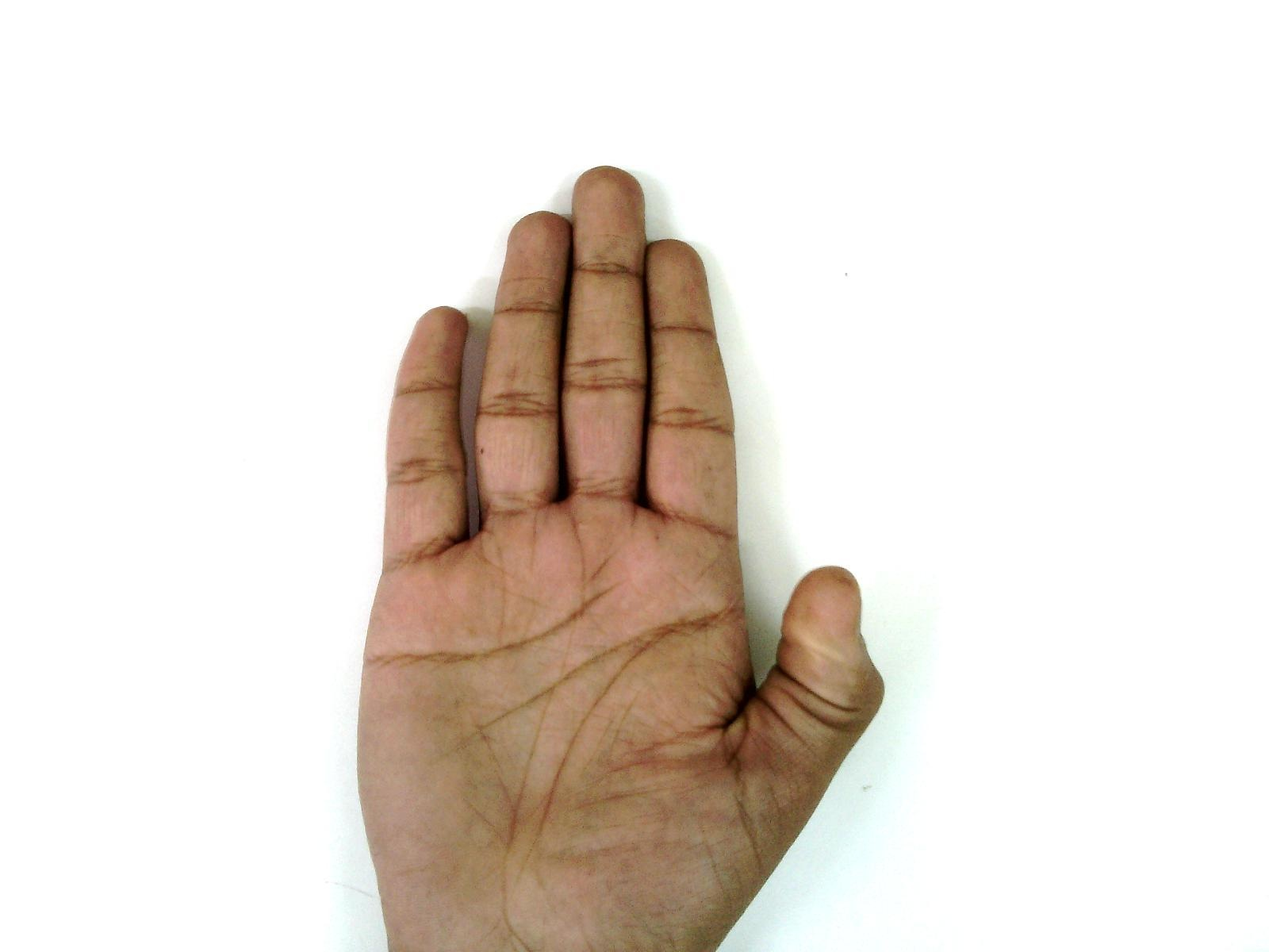open_palm: (353, 165, 888, 951)
